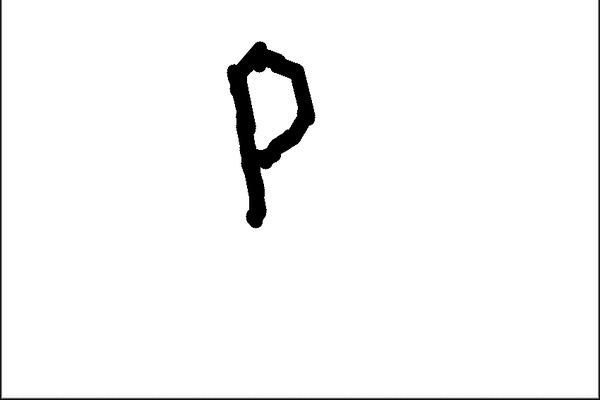P: (214, 36, 327, 237)
